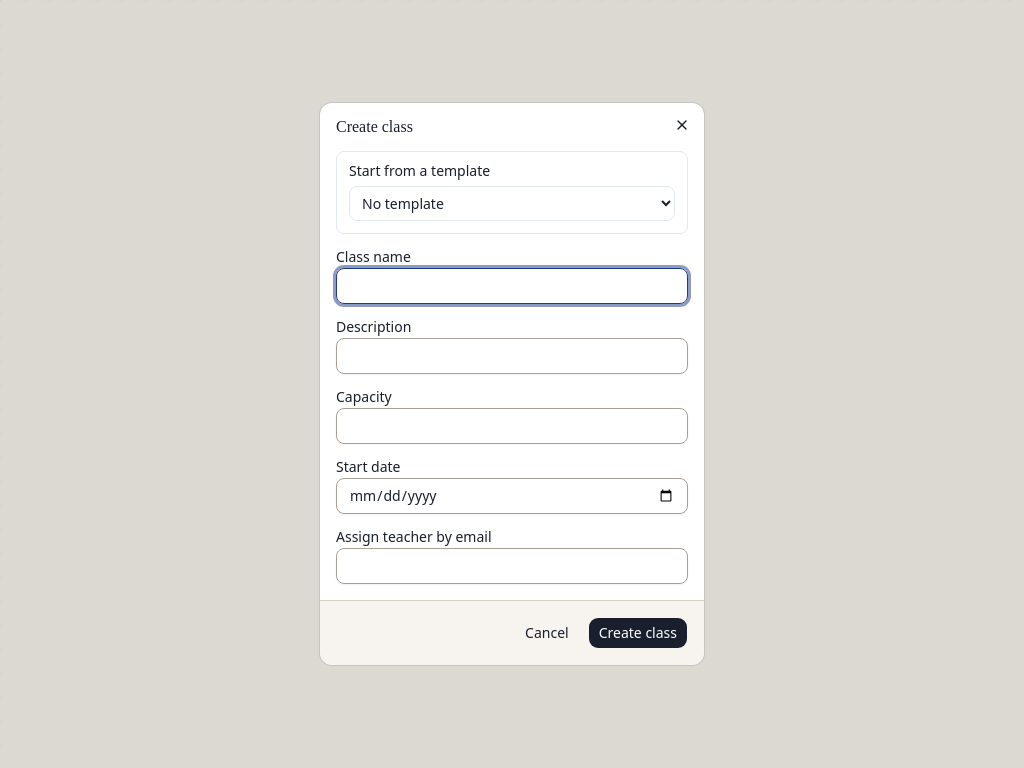
it: ClassFormDialog — s65 validation (Story 10.4 AC6) › simultaneous errors surface in the top-of-form banner with the count
// Submit empty → RHF surfaces the name-required error (zodResolver, all at once).
Click the button "Create class": (638, 633) [588,617,688,649]
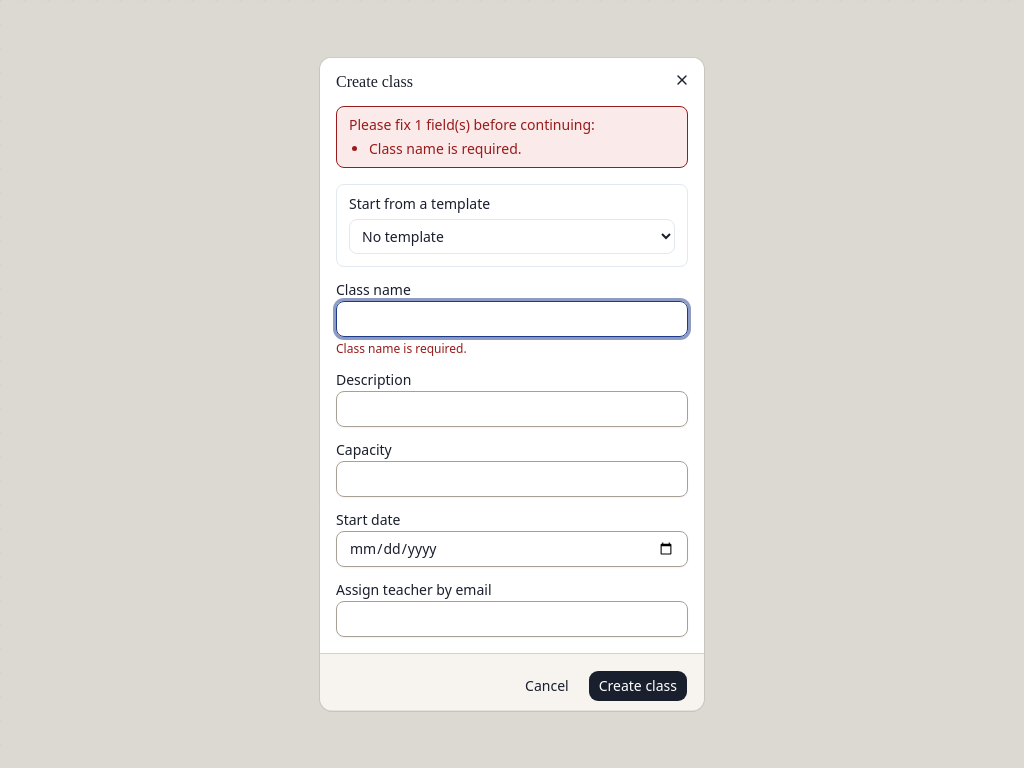
expect the message with test id "class-form-validation-banner" shows "Class name is required.": met, box [369,139,522,158]
